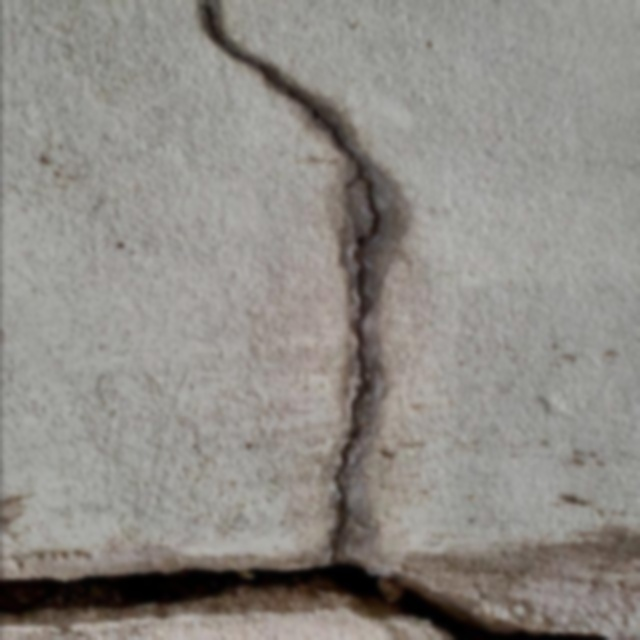SurfaceCrack: (168, 0, 429, 637)
